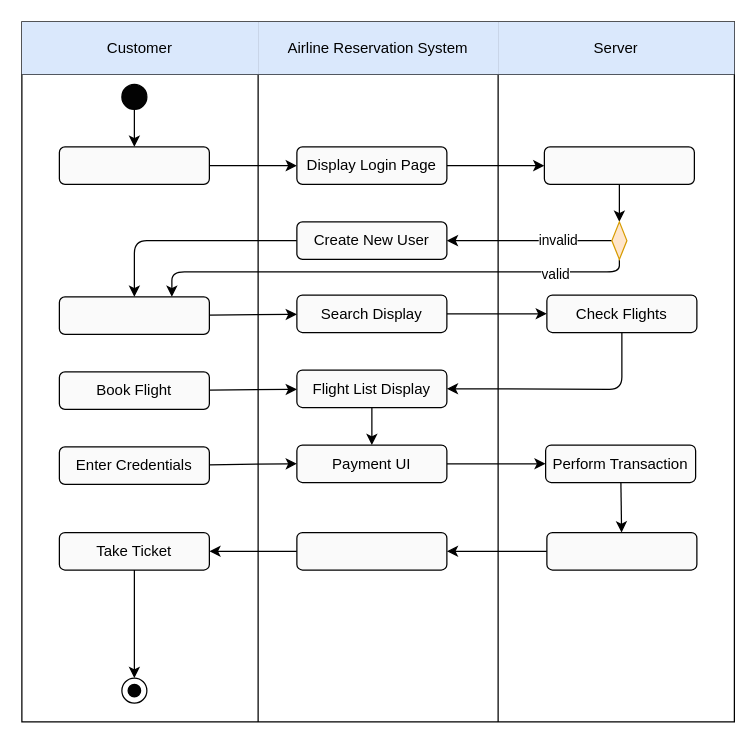
Image size: 756x744. Some labels were removed from this diagram. Here are the shapes that lost their labels. From the top down, the box of each, then its label:
(58, 146, 209, 184): Enter user Details
(543, 146, 694, 184): Verify User
(58, 296, 209, 334): Search Flight
(296, 531, 447, 570): Provide Ticket
(546, 531, 697, 570): Reserve Flight
